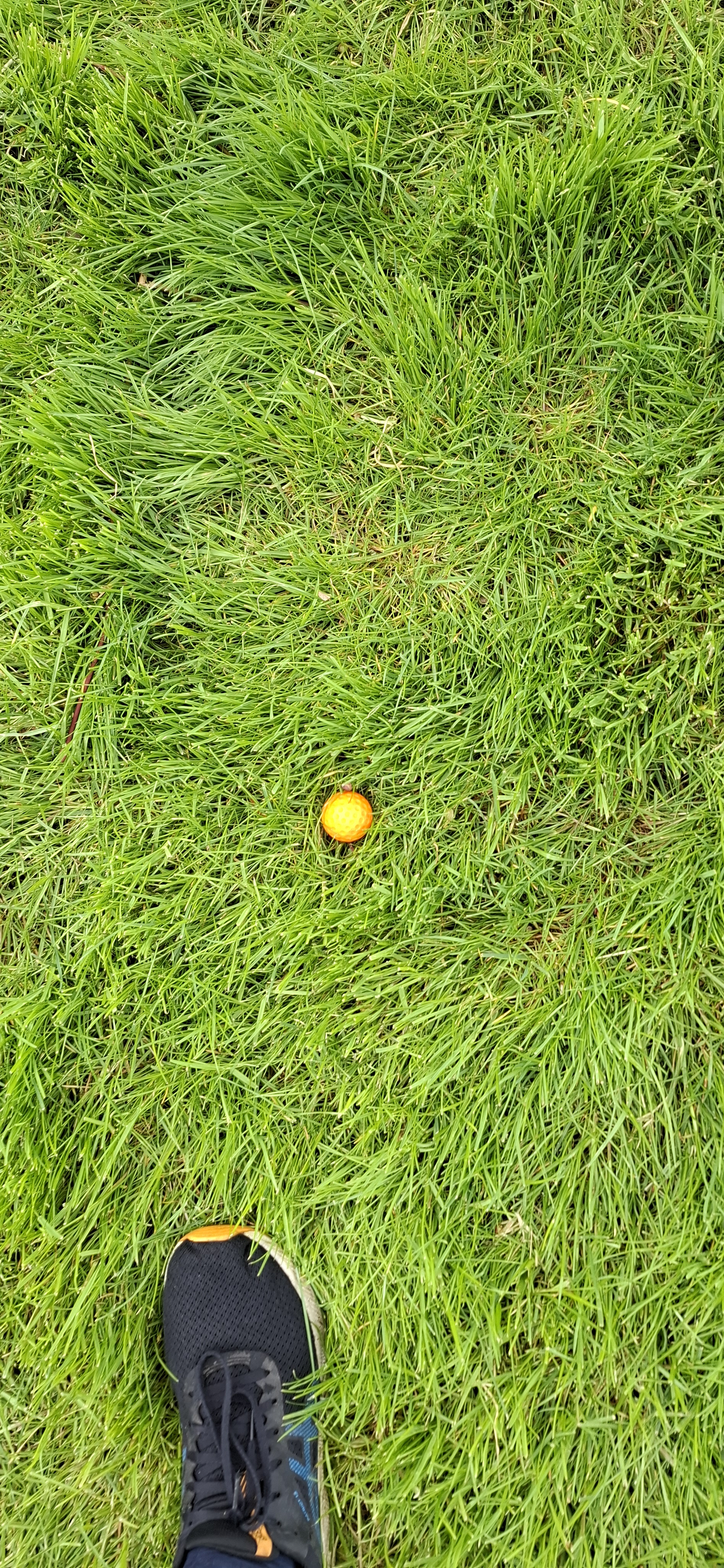ball: (365, 761, 390, 873)
